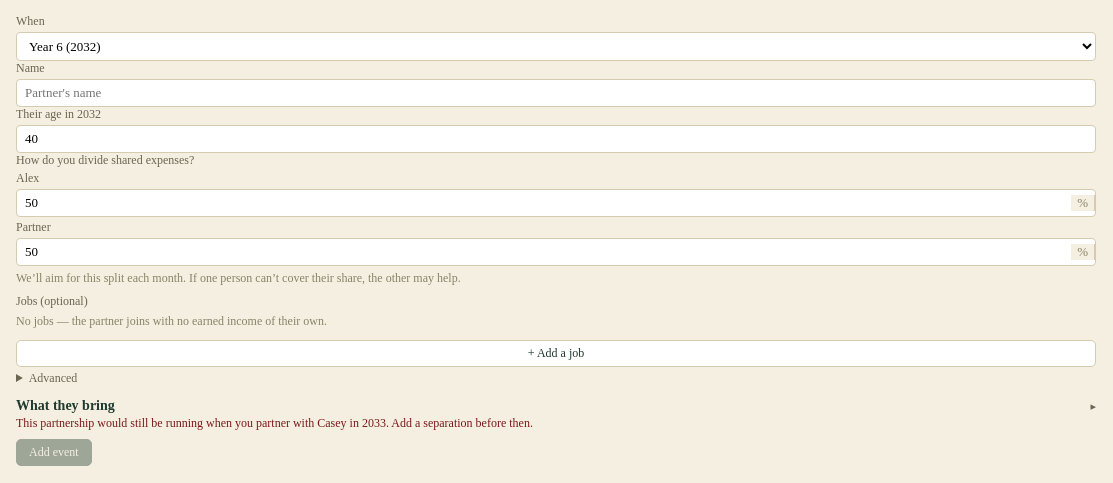
RelationshipForm — a partnership booked ahead of this one › revalidates when the date moves, without remounting the form
Expected: the button "Add event" is disabled, [16,439,92,466]
Select "Year 8 (2034)" in the dropdown labelled "When" at (556, 46), box [16,32,1096,61]
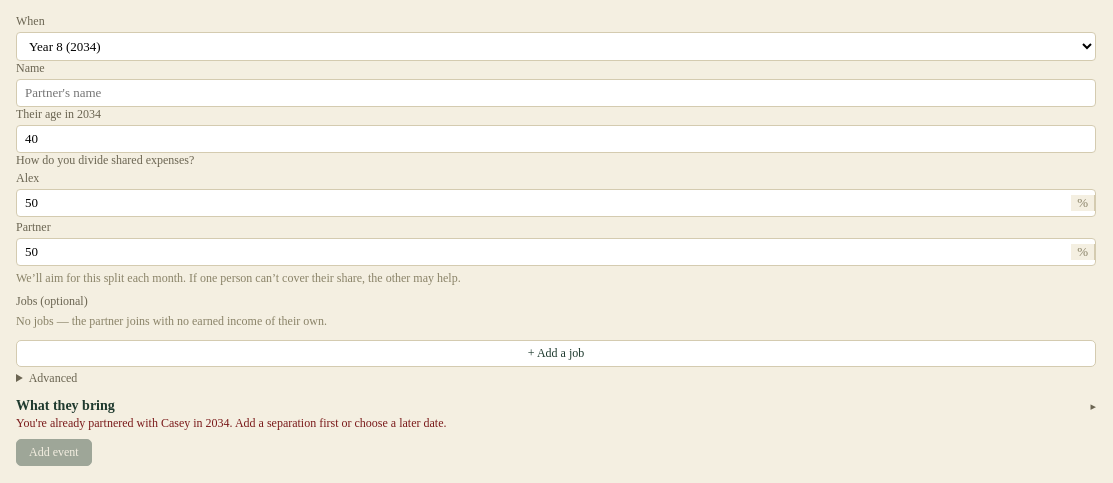
Expected: the button "Add event" is disabled, [16,439,92,466]
Result: the text "already partnered with Casey" is shown at [16,416,446,430]
